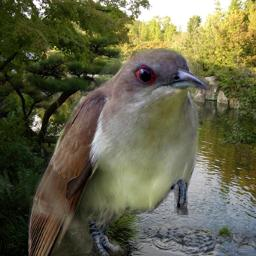Cuckoo: (28, 48, 209, 256)
